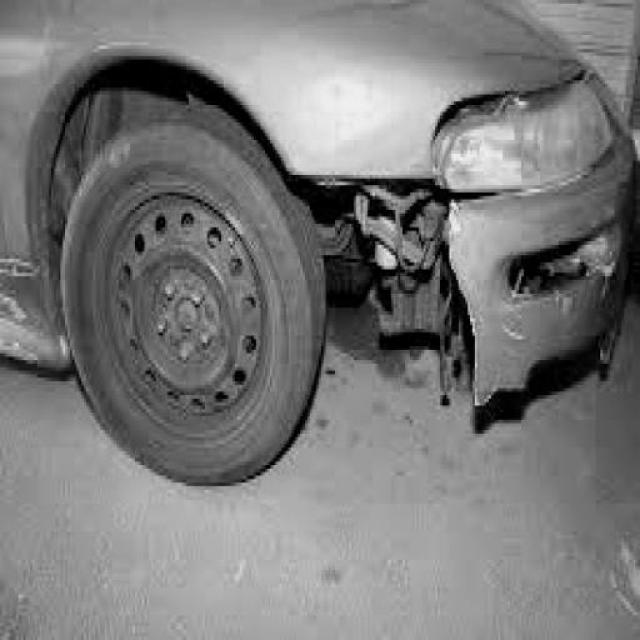car damage: (293, 172, 615, 399)
